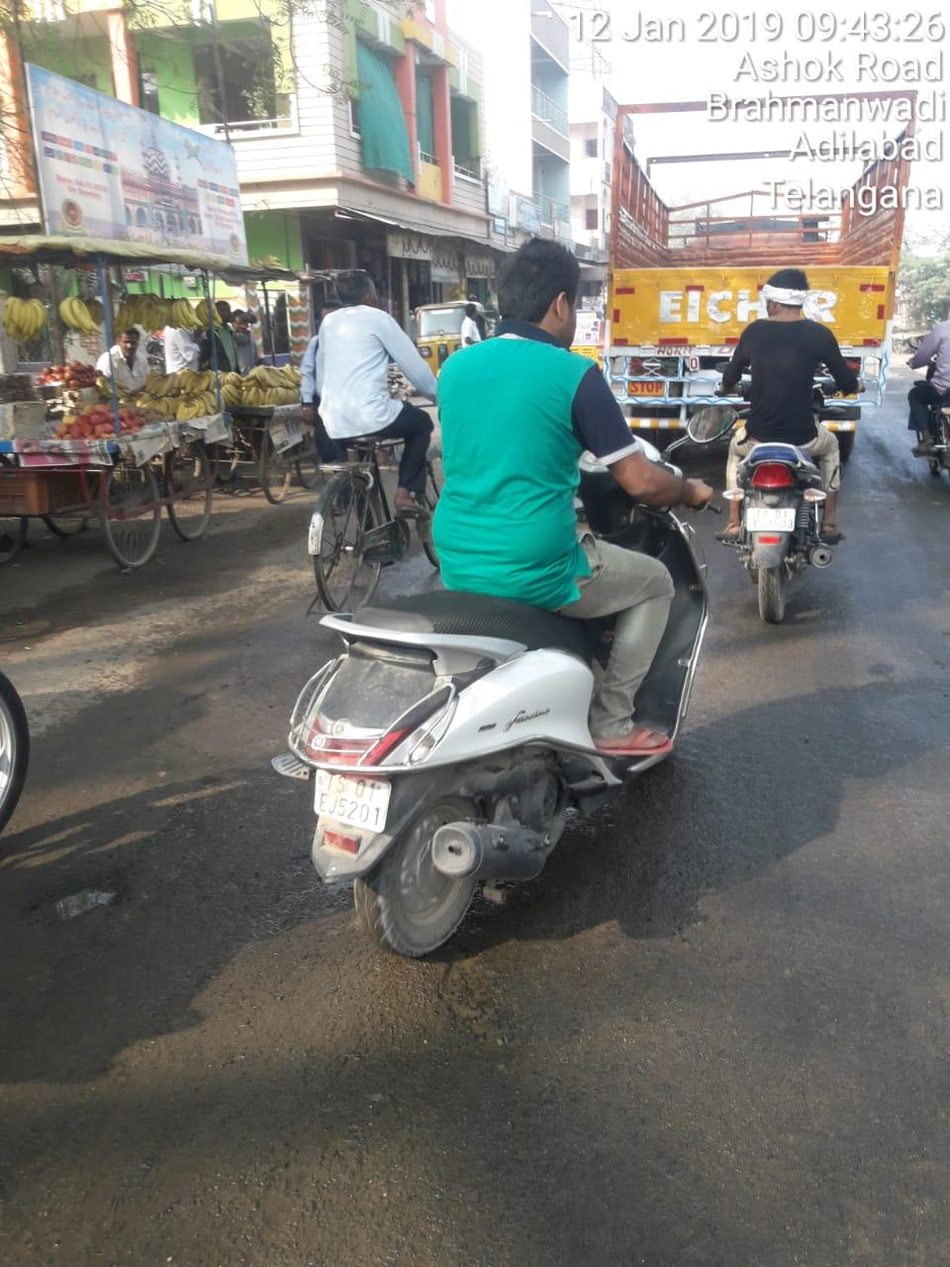plate: (314, 760, 399, 838), (742, 503, 799, 532)
